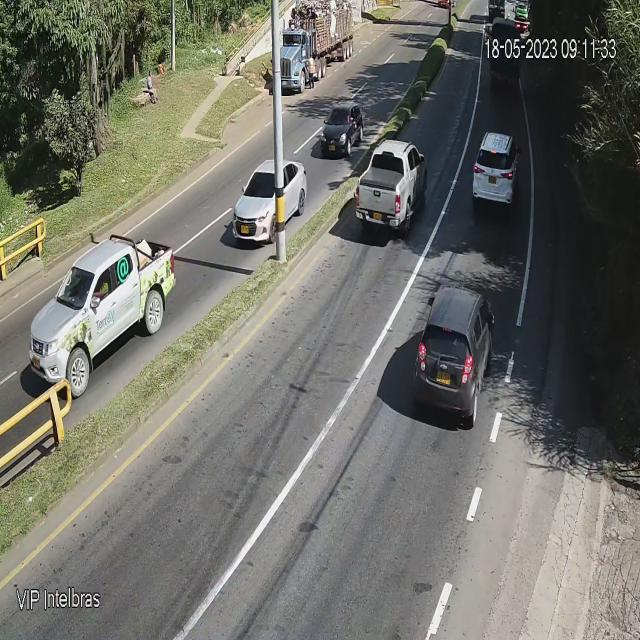CMT: (23, 233, 171, 393), (356, 144, 431, 242)
